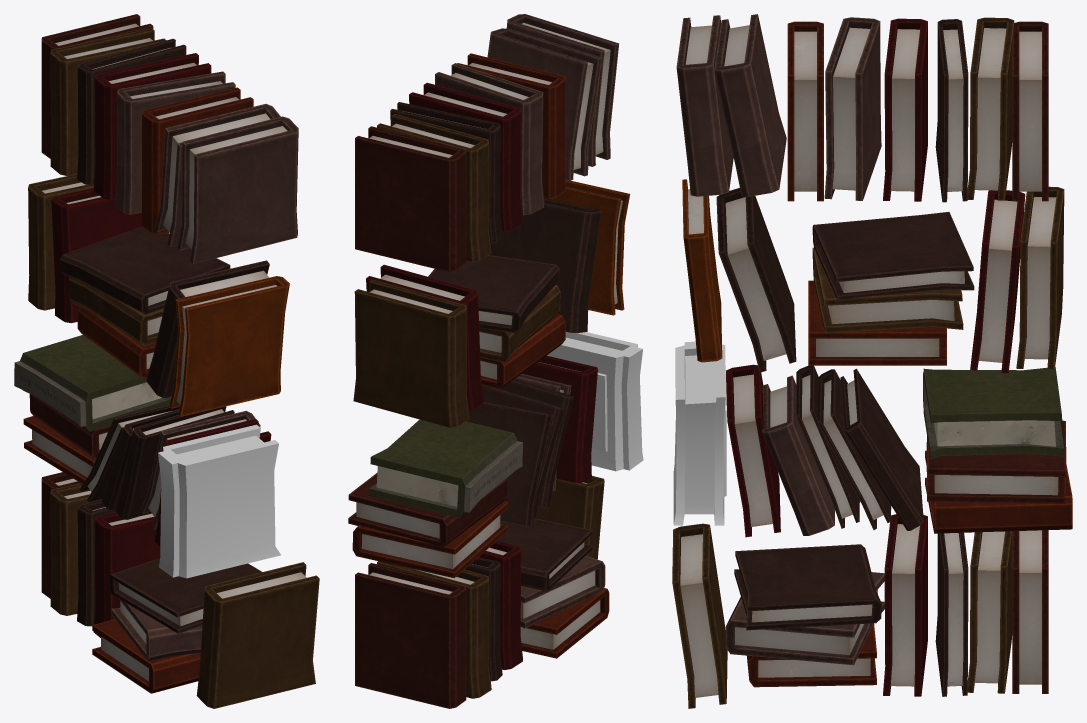
The model's file is Books.fbx.
3 renders of one model, left to right at view 1: azimuth 30°, elevation 25°; view 2: azimuth 150°, elevation 25°; view 3: azimuth 270°, elevation 25°, orthographic. The views are drawn at different scales.
Visible parts, largest first — view 1: Book_Liber_morborum, Book_1.019, Book_1.014, Book_1.006, Book_Ingredientia_et_indicia, Book_1.011, Book_1.027, Book_1.004, Book_1.001, Book_1.008, Book_1.003, Book_1.005 (+20 smaller); view 2: Book_1.007, Book_1.021, Book_1, Book_Ingredientia_et_indicia, Book_Liber_morborum, Book_1.012, Book_1.020, Book_1.011, Book_1.018, Book_1.004, Book_1.003, Book_1.013 (+20 smaller); view 3: Book_Ingredientia_et_indicia, Book_1.011, Book_1.027, Book_1.004, Book_1.020, Book_Liber_morborum, Book_1.012, Book_1.014, Book_1.003, Book_1.001, Book_1.019, Book_1.007 (+20 smaller).
Part boxes in pixels (x1,y1,x2,y2): Book_Liber_morborum: (158,424,280,578); Book_1.019: (177,116,298,263); Book_1.014: (196,562,319,708); Book_1.006: (169,276,289,416); Book_Ingredientia_et_indicia: (14,335,171,431); Book_1.011: (60,226,230,314); Book_1.027: (108,558,262,633); Book_1.004: (115,71,235,214); Book_1.001: (50,28,166,175); Book_1.008: (51,188,168,323); Book_1.003: (93,53,211,200); Book_1.005: (142,87,253,234); Book_1.007: (353,279,469,427); Book_1.021: (355,563,466,708); Book_1: (355,126,466,272); Book_Ingredientia_et_indicia: (368,419,522,517); Book_Liber_morborum: (547,332,643,471); Book_1.012: (489,198,601,333); Book_1.020: (487,28,602,180); Book_1.011: (428,255,559,332); Book_1.018: (352,501,508,578); Book_1.004: (435,63,544,215); Book_1.003: (409,82,522,231); Book_1.013: (348,473,507,548); Book_Ingredientia_et_indicia: (923,367,1064,459); Book_1.011: (812,212,974,300); Book_1.027: (734,544,881,630); Book_1.004: (824,17,881,200); Book_1.020: (714,14,786,196); Book_Liber_morborum: (673,341,726,525); Book_1.012: (716,188,796,372); Book_1.014: (672,523,727,708); Book_1.003: (883,18,927,201); Book_1.001: (967,17,1014,200); Book_1.019: (676,15,733,196); Book_1.007: (1016,186,1064,369).
Bounding box in the file's own units: 39.89 × 148 × 84.64.
